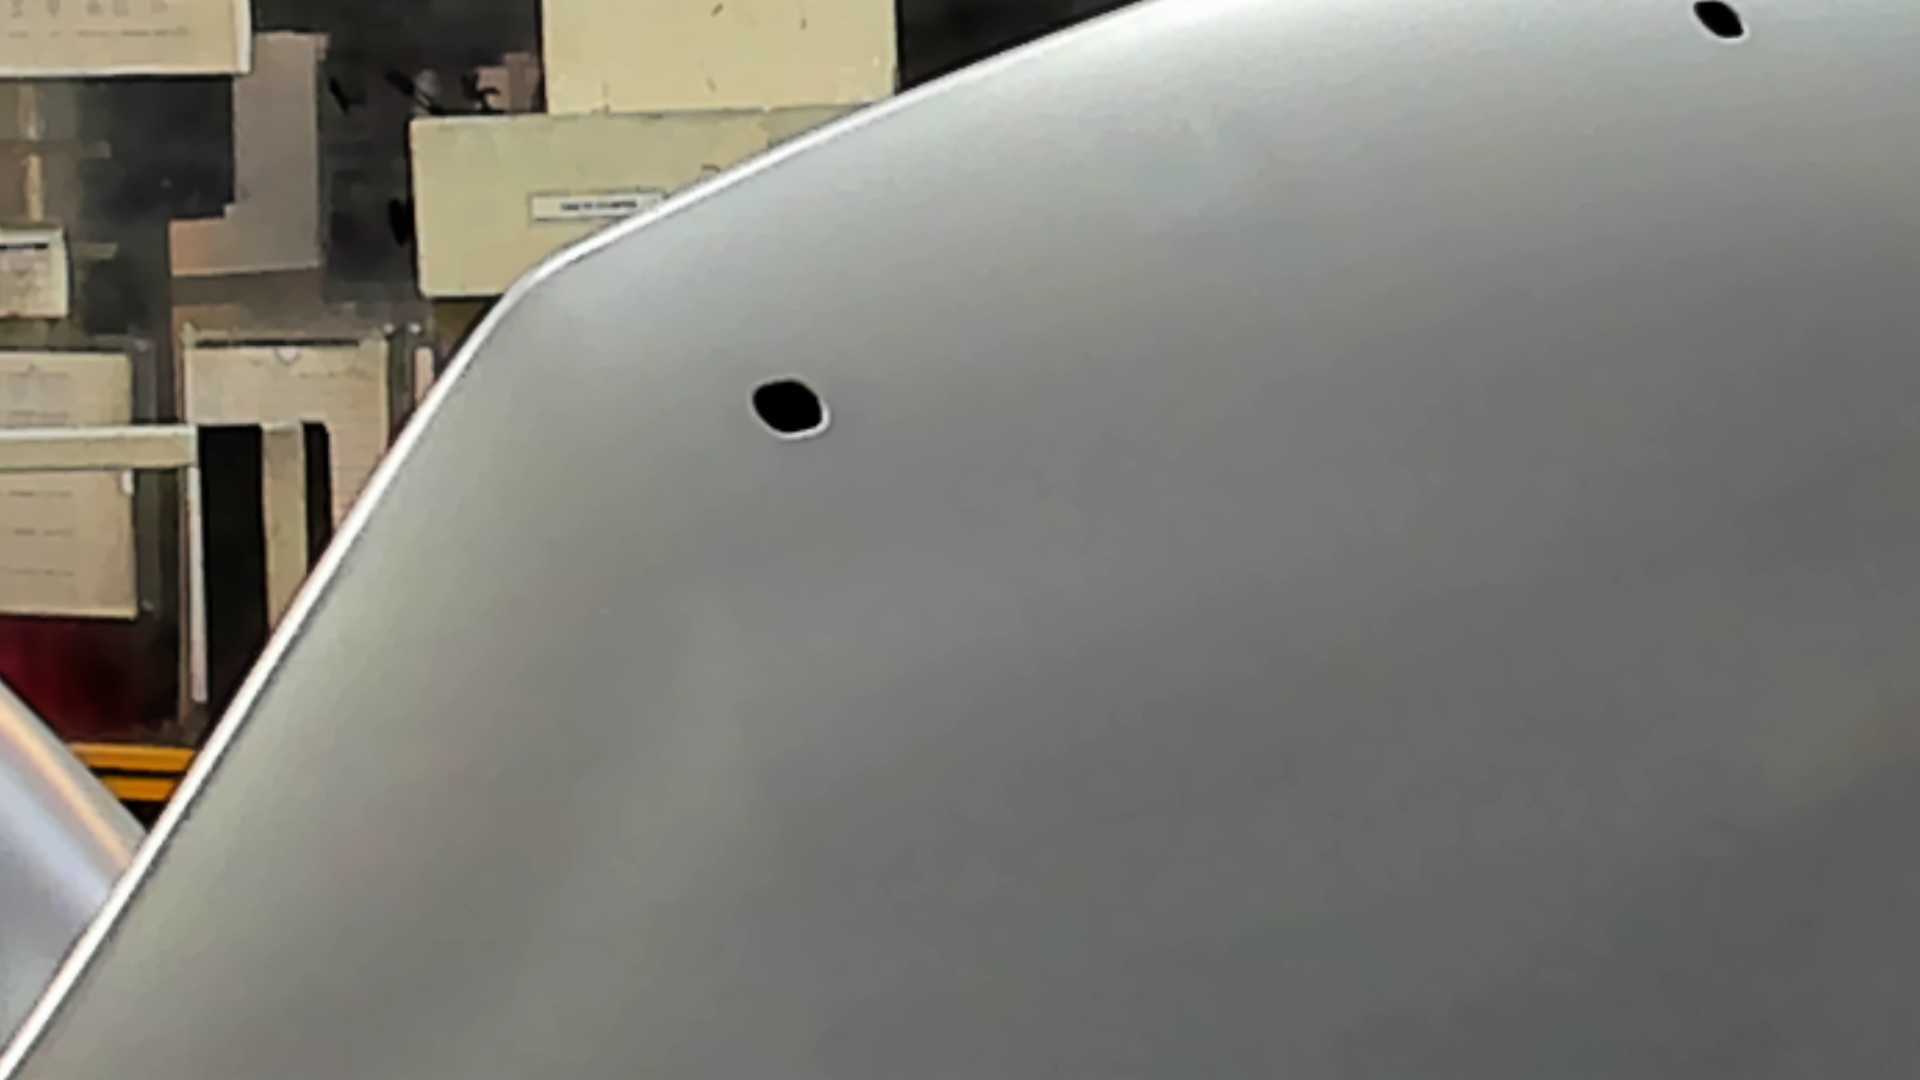amorfo: (746, 375, 833, 440), (1687, 1, 1760, 50)
